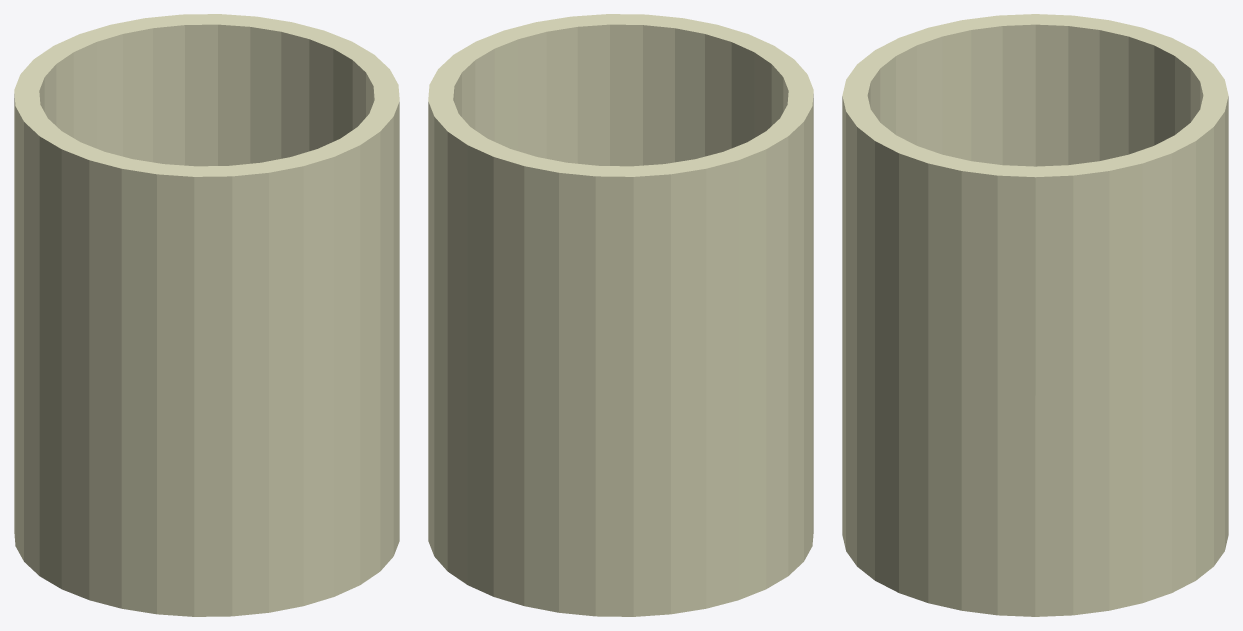
File: copo 1.fbx
3 renders of one model, left to right at view 1: azimuth 30°, elevation 25°; view 2: azimuth 150°, elevation 25°; view 3: azimuth 270°, elevation 25°, orthographic.
Parts seen in each view (by area): view 1: Cup.02; view 2: Cup.02; view 3: Cup.02.
Boxes of the visible parts, bbox=[...] form: Cup.02: bbox=[14, 14, 399, 616]; Cup.02: bbox=[428, 14, 813, 616]; Cup.02: bbox=[842, 14, 1228, 616].
Bounding box in the file's own units: 6.15 × 7.73 × 6.15.
